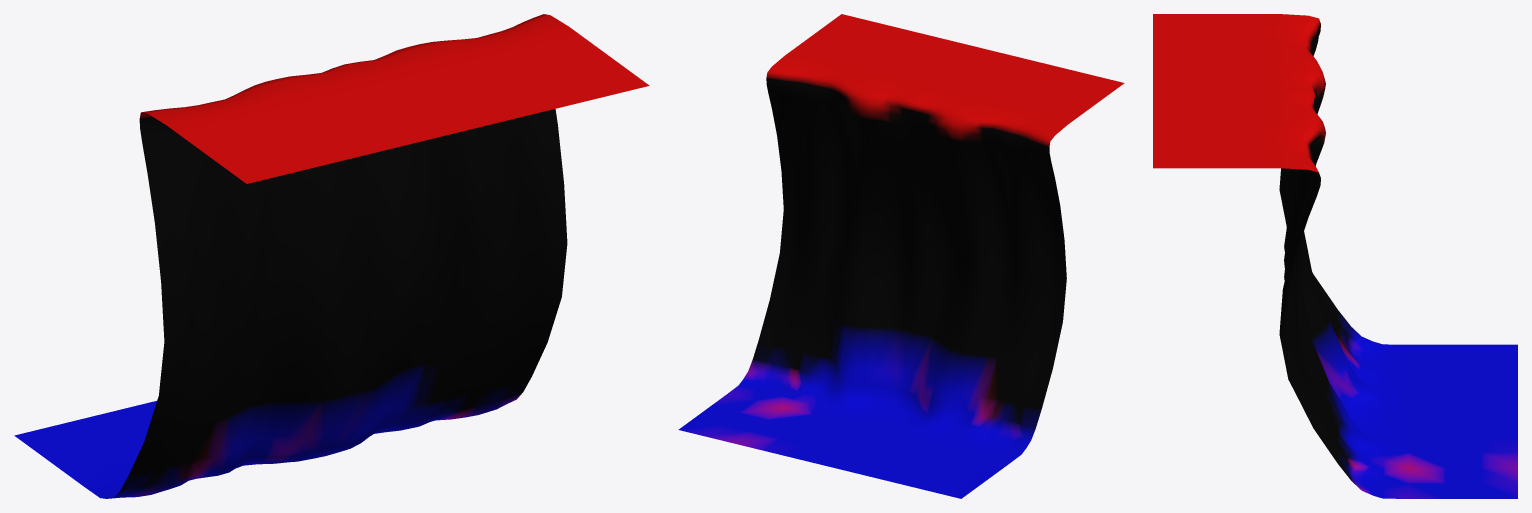
Rendered from GroundCliff01A 2M for Water Foreground.fbx.
The picture shows the model from 3 angles, left to right: view 1: azimuth 30°, elevation 25°; view 2: azimuth 150°, elevation 25°; view 3: azimuth 270°, elevation 25°; orthographic projection. The views are drawn at different scales.
Visible parts, largest first — view 1: GroundCliff01A 2M for Water Foreground; view 2: GroundCliff01A 2M for Water Foreground; view 3: GroundCliff01A 2M for Water Foreground.
Boxes of the visible parts, x1=… form: GroundCliff01A 2M for Water Foreground: x1=14, y1=14, x2=649, y2=498; GroundCliff01A 2M for Water Foreground: x1=678, y1=14, x2=1124, y2=498; GroundCliff01A 2M for Water Foreground: x1=1153, y1=14, x2=1517, y2=498.
Bounding box in the file's own units: 2 × 2 × 2.
